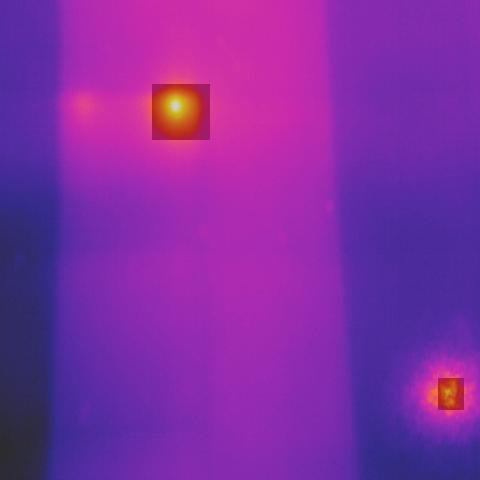fault: (152, 84, 210, 140), (438, 378, 464, 410)
